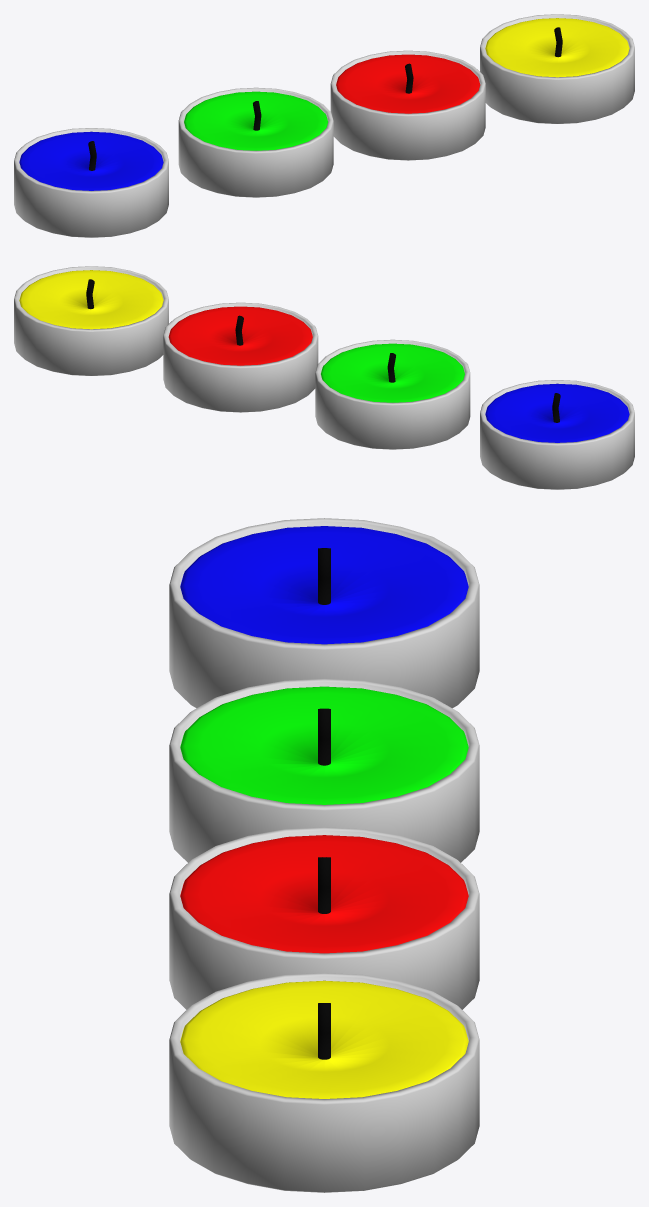
File: ColoredCandle.fbx
The picture shows the model from 3 angles, top to bottom: view 1: azimuth 30°, elevation 25°; view 2: azimuth 150°, elevation 25°; view 3: azimuth 270°, elevation 25°; orthographic projection. The views are drawn at different scales.
Visible parts, largest first — view 1: CandleGreen, CandleBlue, CandleRed, CandleYellow; view 2: CandleGreen, CandleBlue, CandleRed, CandleYellow; view 3: CandleYellow, CandleBlue, CandleGreen, CandleRed.
Boxes of the visible parts, x1,y1,x2,y2 form: CandleGreen: (178, 87, 333, 197); CandleBlue: (14, 128, 168, 237); CandleRed: (330, 50, 485, 160); CandleYellow: (480, 14, 634, 123); CandleGreen: (315, 339, 470, 449); CandleBlue: (480, 380, 634, 489); CandleRed: (163, 302, 318, 412); CandleYellow: (14, 266, 168, 375); CandleYellow: (169, 973, 479, 1192); CandleBlue: (169, 518, 479, 708); CandleGreen: (169, 678, 479, 862); CandleRed: (169, 827, 479, 1009).
Bounding box in the file's own units: 415 × 41.97 × 92.88.
